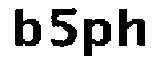5: (50, 5, 81, 48)
b: (10, 6, 45, 48)
h: (117, 4, 148, 47)
p: (83, 15, 113, 60)
